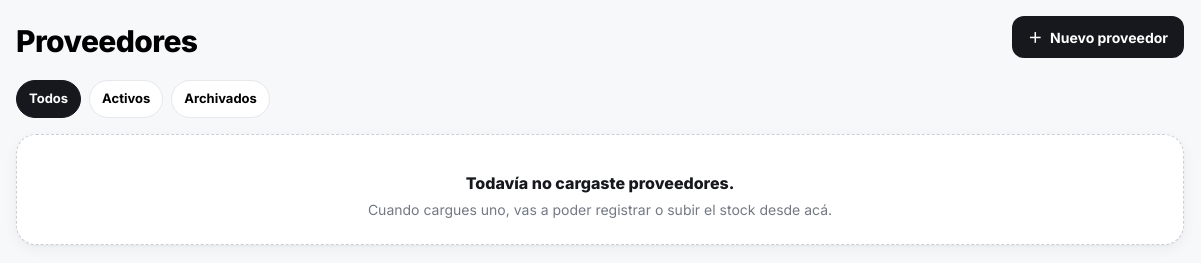
Test: proveedores › logs failed archive loads and keeps a neutral empty list without alerts
Click the button "Archivados": (221, 99) [171, 80, 270, 118]
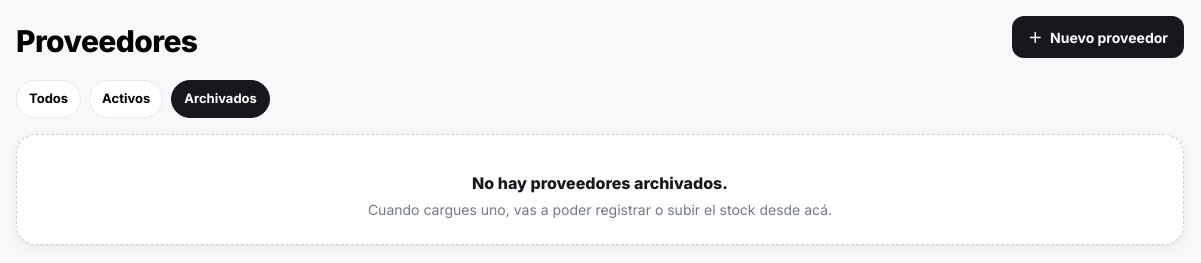
Result: the heading "No hay proveedores archivados." is shown at [472, 173, 728, 193]
